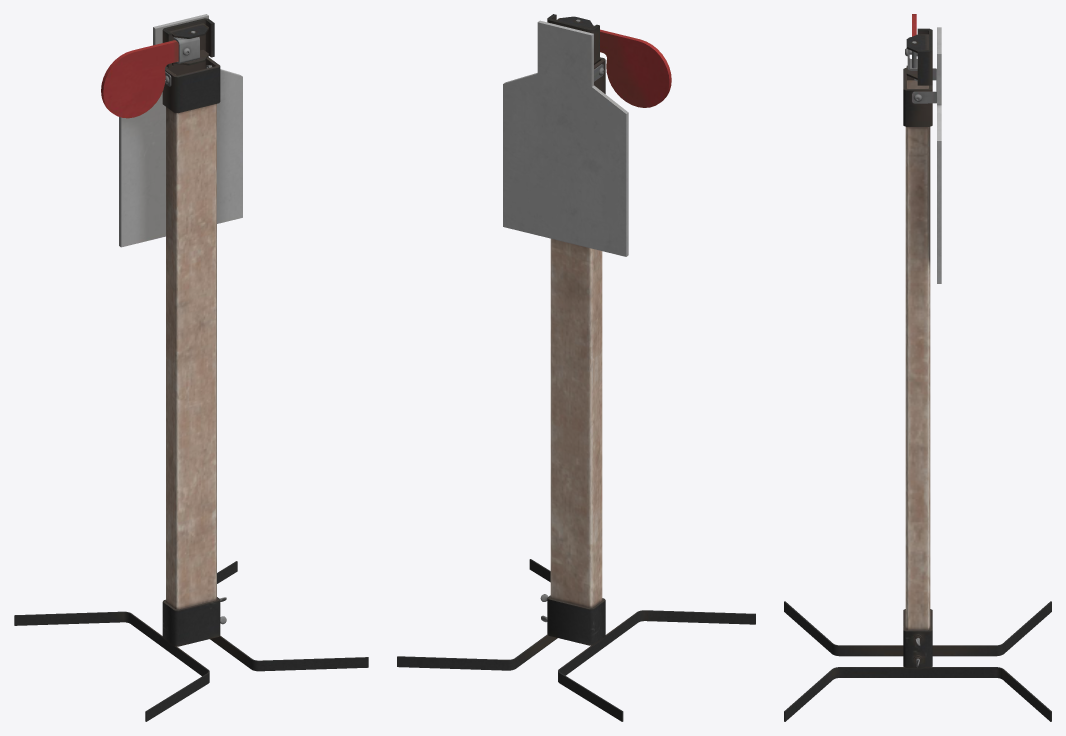
Rendered from hostage.gltf.
3 views of the same model, side by side, from view 1: azimuth 30°, elevation 25°; view 2: azimuth 150°, elevation 25°; view 3: azimuth 270°, elevation 25° (orthographic).
Parts seen in each view (by area): view 1: Stand, Target; view 2: Stand, Target; view 3: Stand.
Boxes of the visible parts, left/top/right/bottom form: Stand: left=14, top=14, right=368, bottom=721; Target: left=101, top=37, right=199, bottom=118; Stand: left=397, top=14, right=755, bottom=721; Target: left=593, top=25, right=671, bottom=107; Stand: left=784, top=27, right=1051, bottom=721.
Bounding box in the file's own units: 0.5448 × 1.44 × 0.5584.
Materials: 1 (1 with a texture image).
